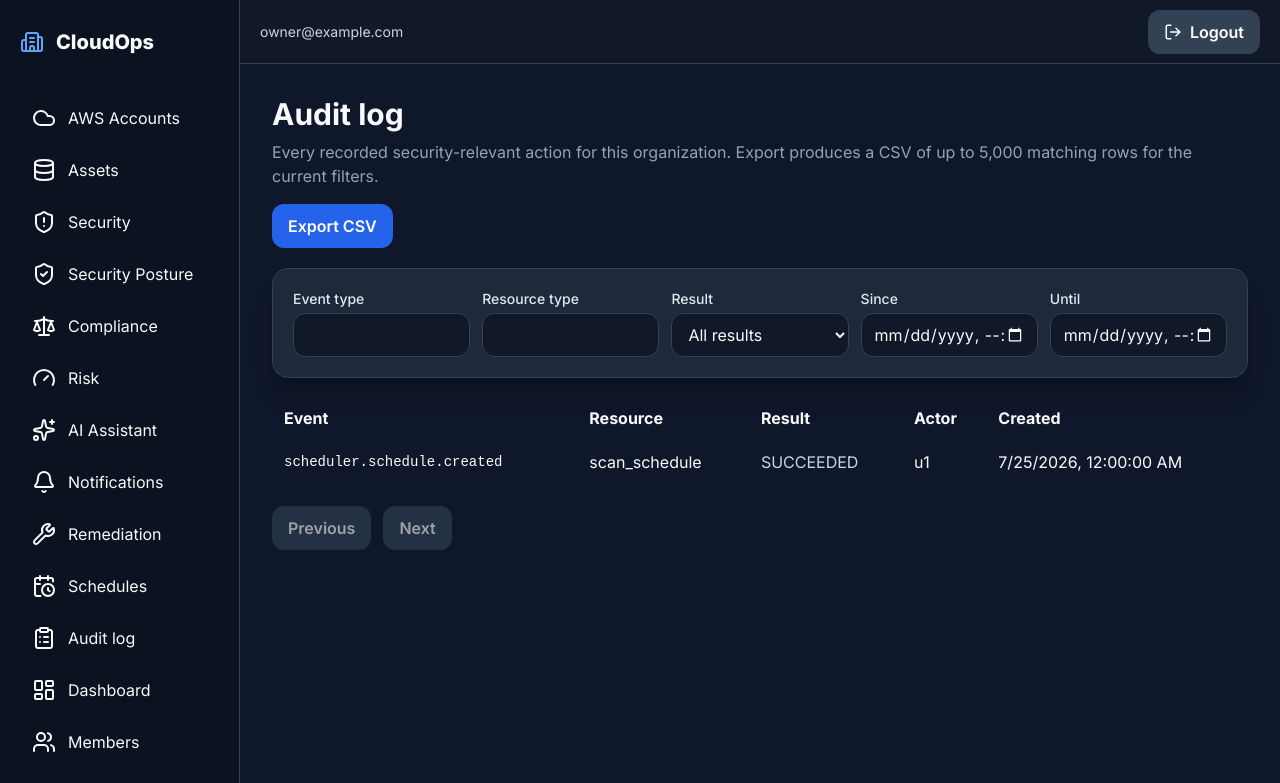
Test: Audit page › filters by event type
Expected: the text "scheduler.schedule.created" is shown, [272,438,577,486]
Type "scheduler.run.failed" into the field labelled "Event type".
click(382, 335); type("scheduler.run.failed")  # box [293,313,470,357]
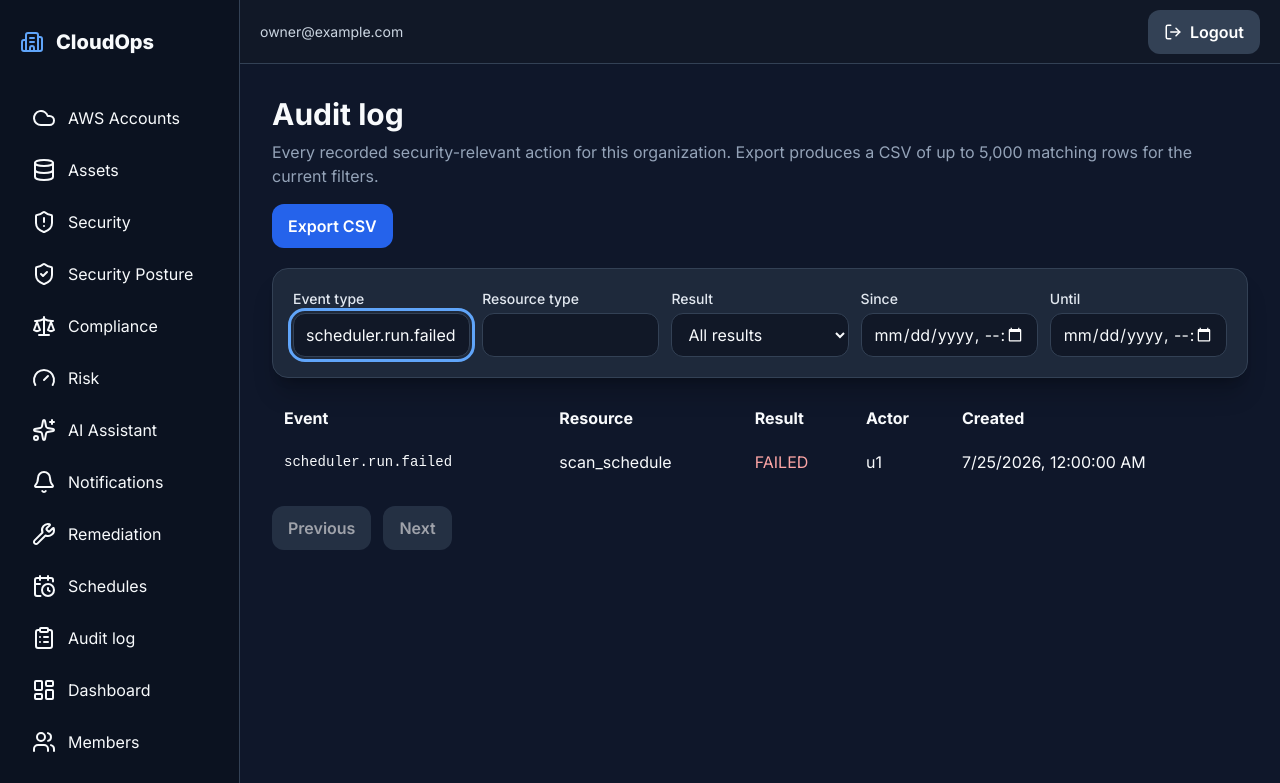
Now the text "scheduler.run.failed" is shown, box [272,438,547,486]
